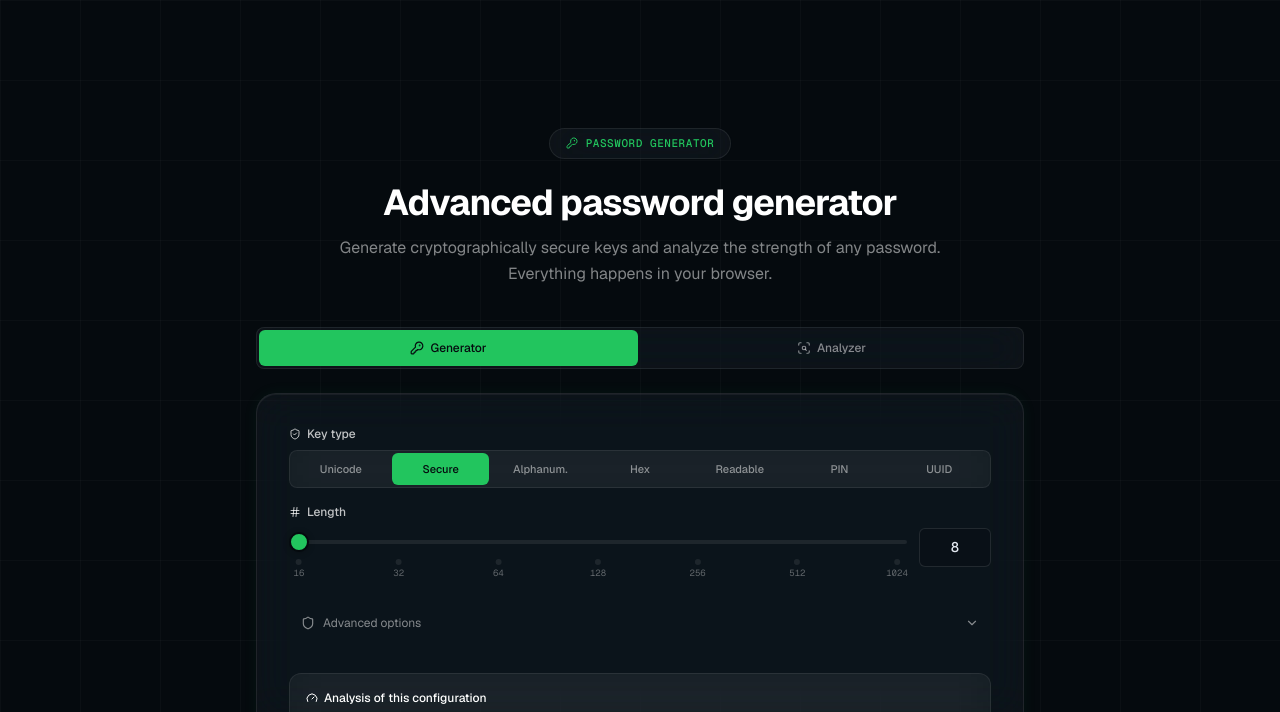
Test case: GeneratorContent — key modes › generates Hex keys from its own alphabet
Step 1. Click the button "Hex" → click(640, 469), box [591,452,689,485]
(page scrolled)
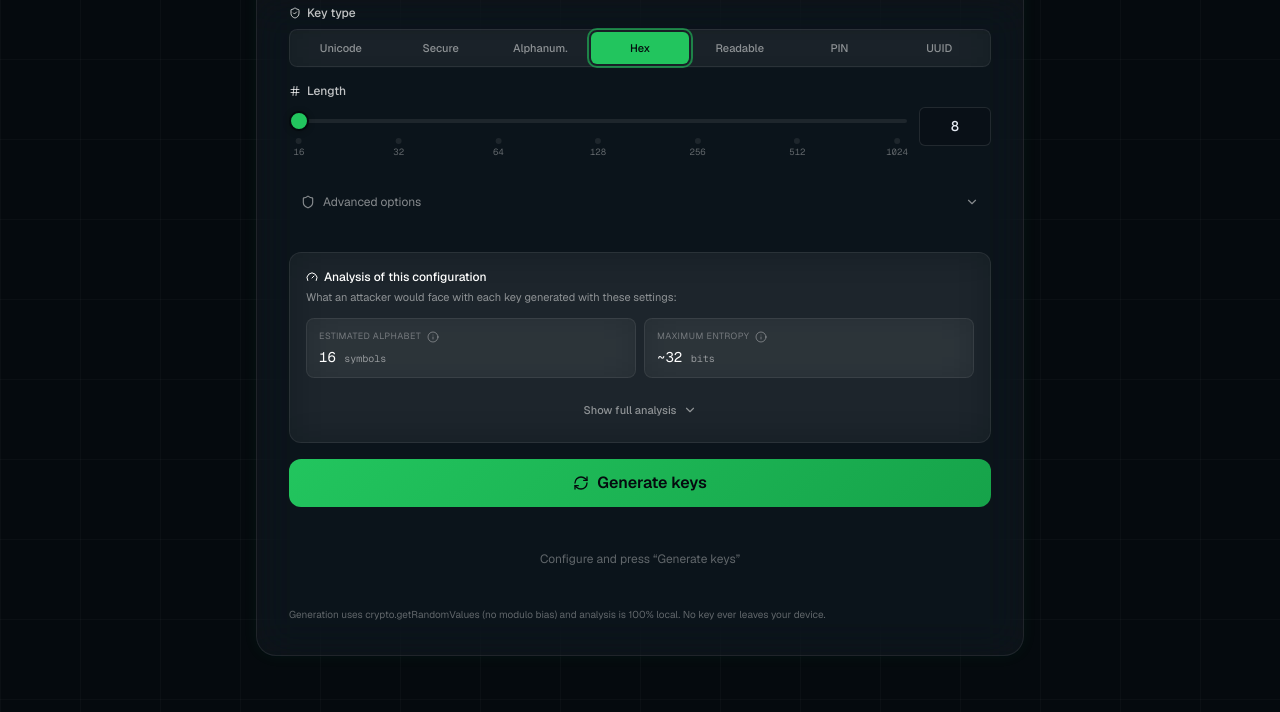
Expected: the button "Hex" is pressed, [591,32,689,64]
Step 2. Click the button "Generate keys" → click(640, 483), box [289,459,991,507]
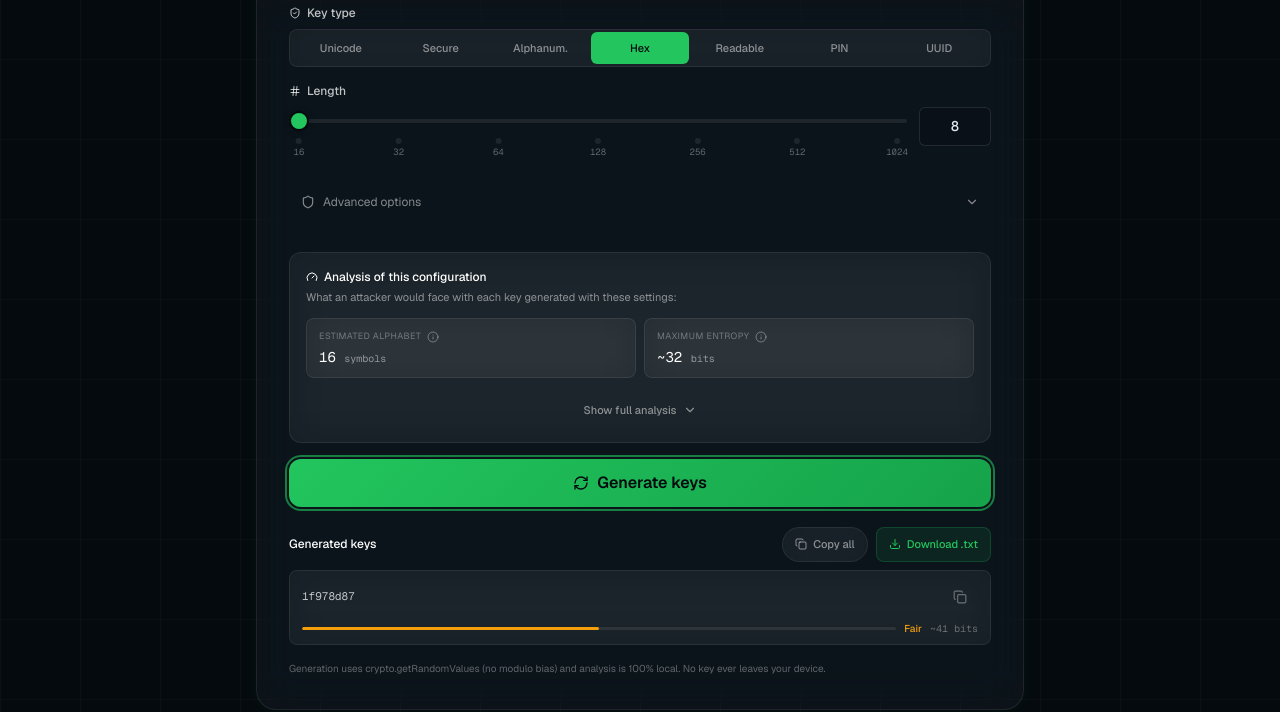
Expected: the text "1f978d87" is shown, [302,589,355,603]
